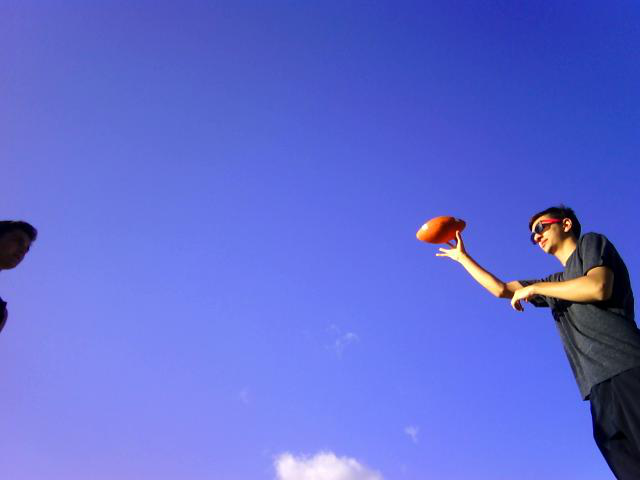football: (414, 212, 469, 251)
